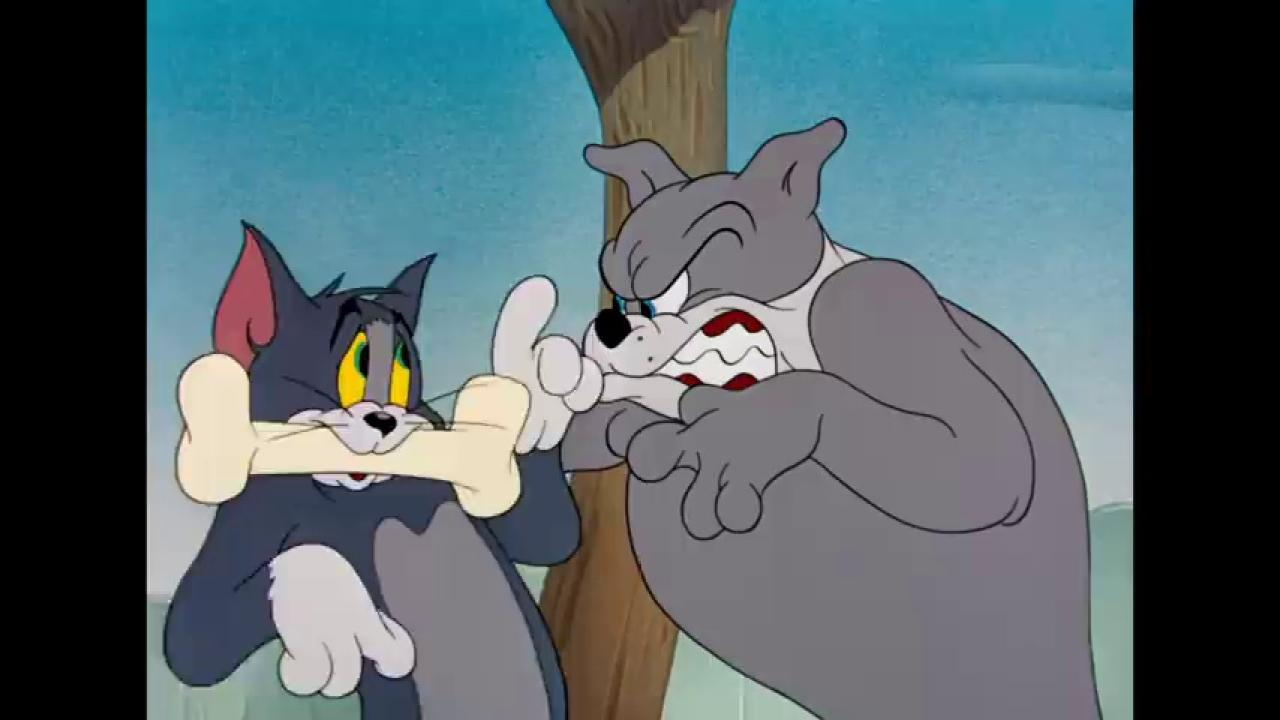Tom: (162, 214, 584, 720)
